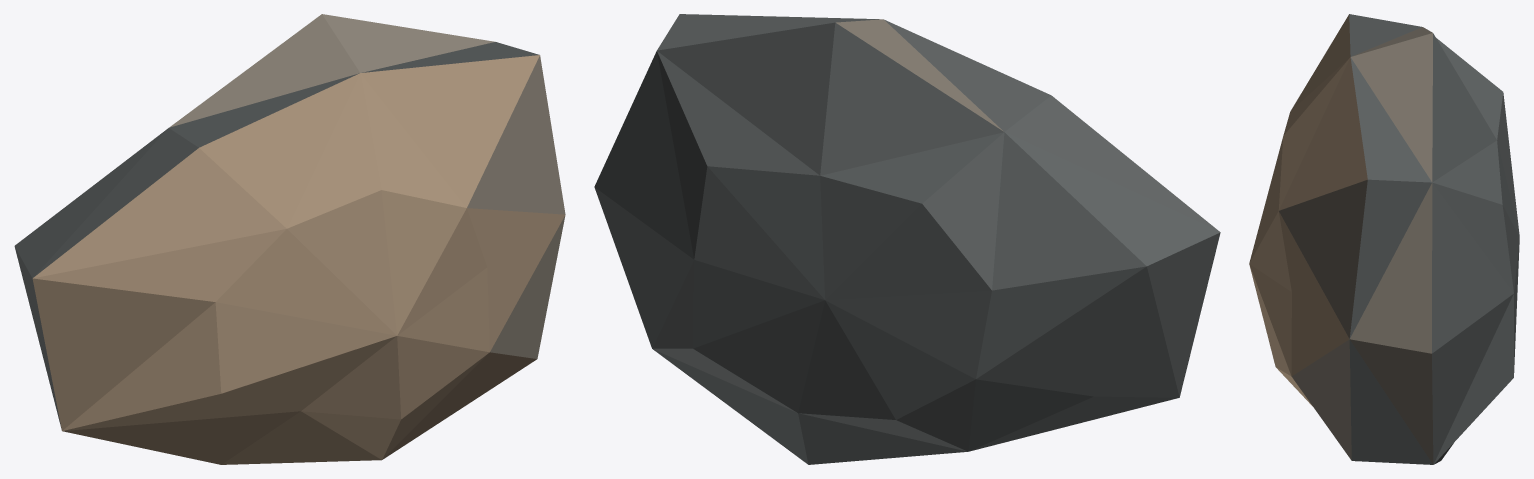
File: mountain-rock-01-boulder.glb
The picture shows the model from 3 angles, left to right: view 1: azimuth 30°, elevation 25°; view 2: azimuth 150°, elevation 25°; view 3: azimuth 270°, elevation 25°; orthographic projection. The views are drawn at different scales.
Parts seen in each view (by area): view 1: Mountain Rock 01 Boulder; view 2: Mountain Rock 01 Boulder; view 3: Mountain Rock 01 Boulder.
Part boxes in pixels (x1=…): Mountain Rock 01 Boulder: x1=14, y1=14, x2=565, y2=464; Mountain Rock 01 Boulder: x1=594, y1=14, x2=1220, y2=464; Mountain Rock 01 Boulder: x1=1249, y1=14, x2=1519, y2=464.
Bounding box in the file's own units: 2.15 × 1.57 × 0.92.
